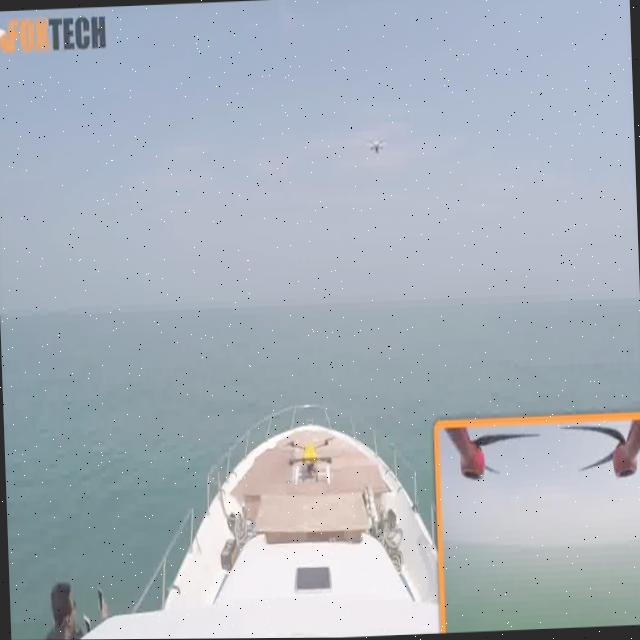drone: (277, 410, 345, 490), (358, 125, 390, 173)
